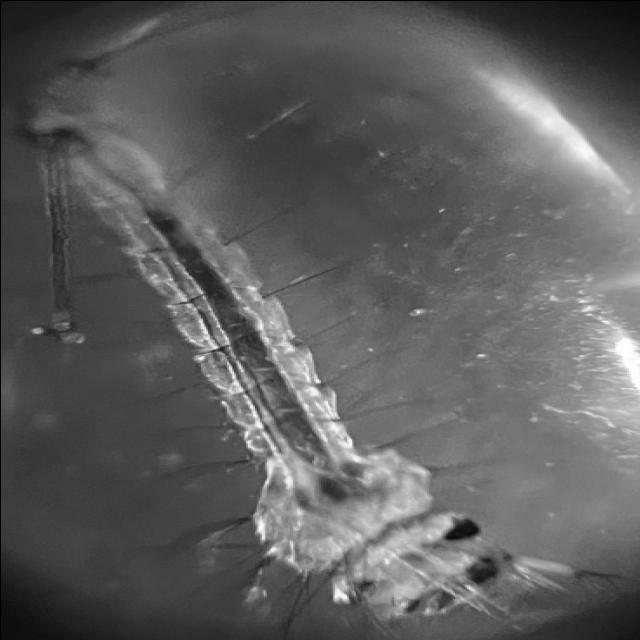larvas: (35, 108, 502, 617)
